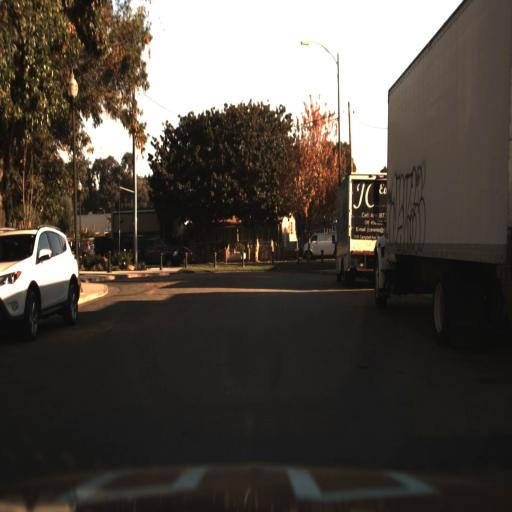car: (0, 227, 82, 340), (331, 166, 394, 285), (301, 224, 334, 264), (301, 231, 342, 261), (156, 240, 199, 266)
truck: (369, 0, 506, 347), (372, 0, 511, 331), (332, 160, 378, 290)
